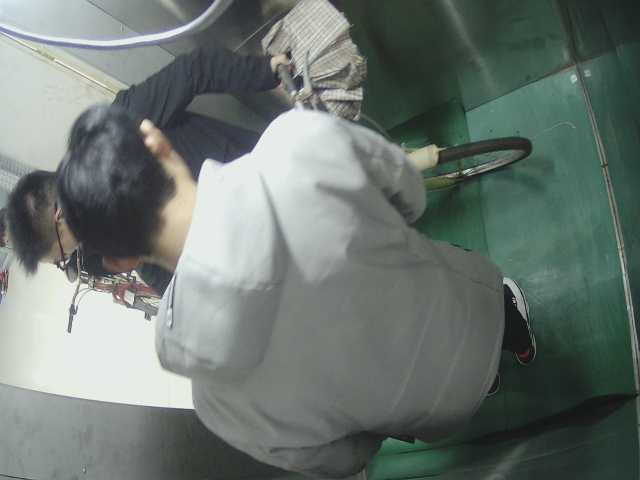bicycle: (380, 121, 543, 201), (53, 257, 183, 351)
person: (63, 112, 534, 462), (7, 172, 98, 288)
